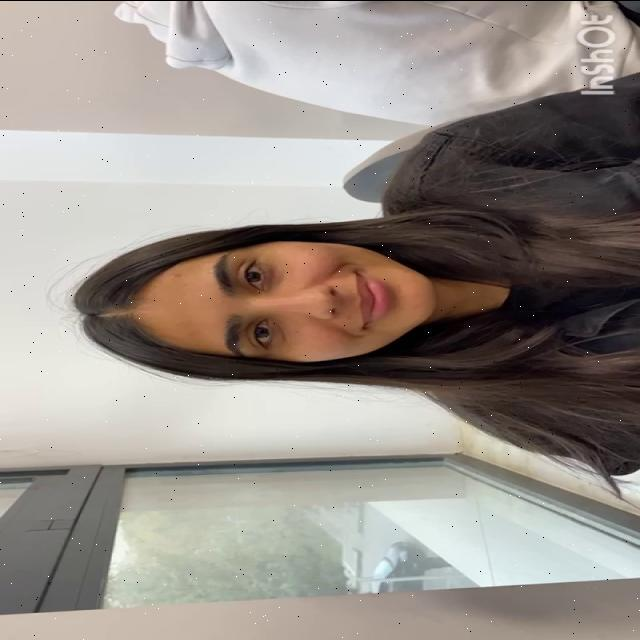happy: (113, 235, 436, 371)
